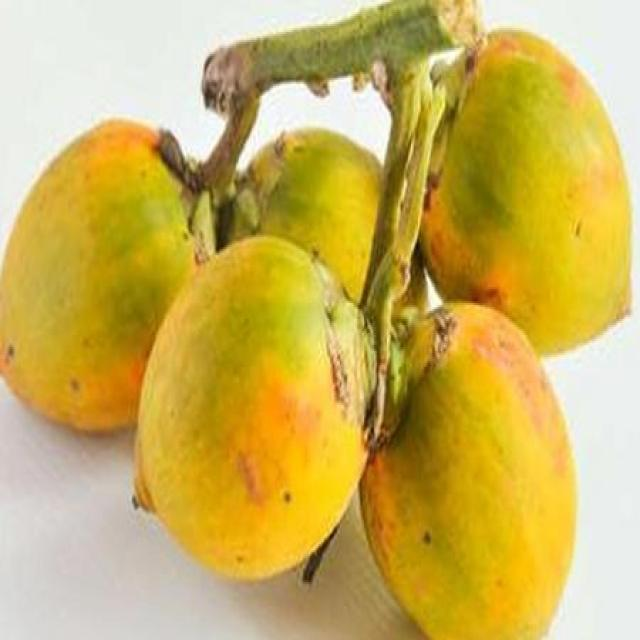good: (132, 235, 452, 586), (357, 303, 579, 638), (418, 28, 633, 361), (0, 120, 199, 435), (250, 128, 384, 299)
